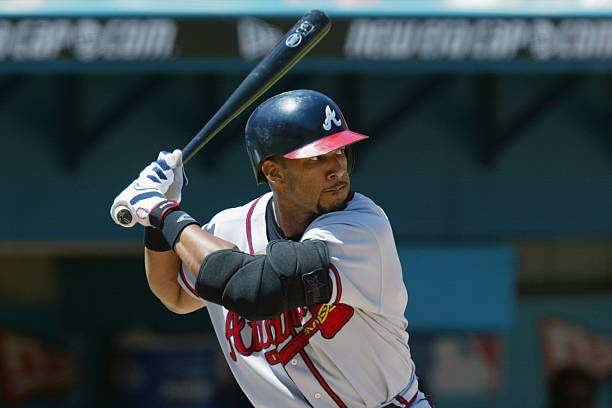bita: (113, 12, 323, 218)
